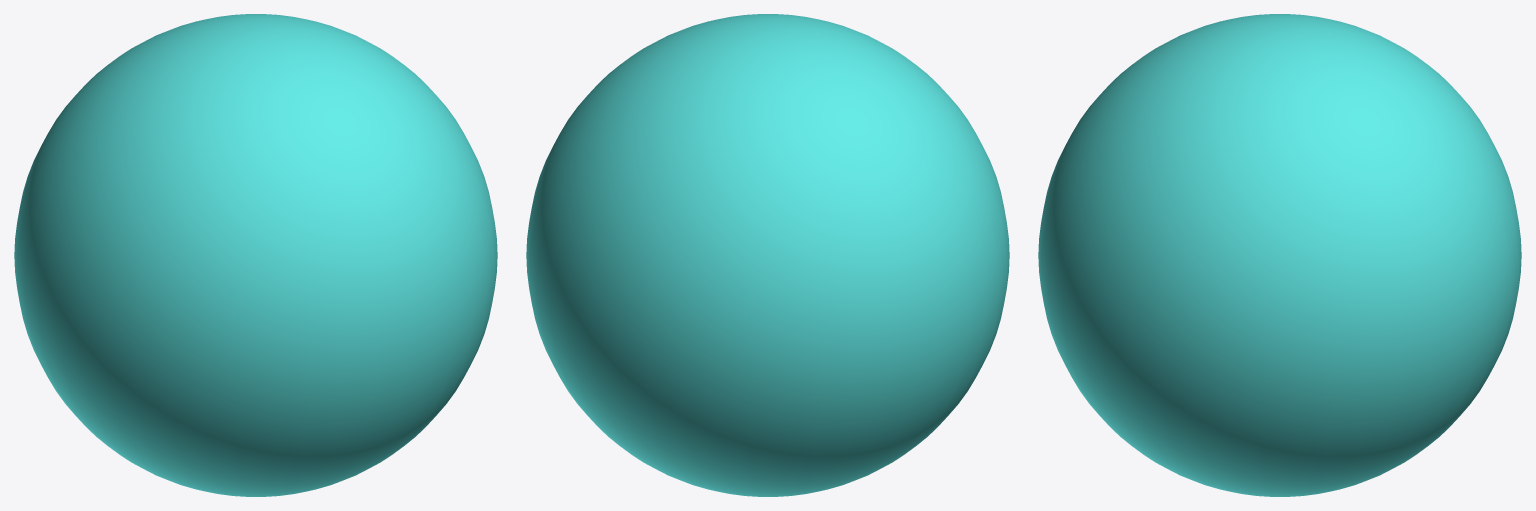
File: bollablu.glb
3 renders of one model, left to right at view 1: azimuth 30°, elevation 25°; view 2: azimuth 150°, elevation 25°; view 3: azimuth 270°, elevation 25°, orthographic.
Parts seen in each view (by area): view 1: Sphere; view 2: Sphere; view 3: Sphere.
Part boxes in pixels (x1,y1,x2,y2): Sphere: (14, 14, 497, 496); Sphere: (526, 14, 1009, 496); Sphere: (1038, 14, 1521, 496).
Size of the model in its own units: 4.02 by 4.03 by 4.03.
